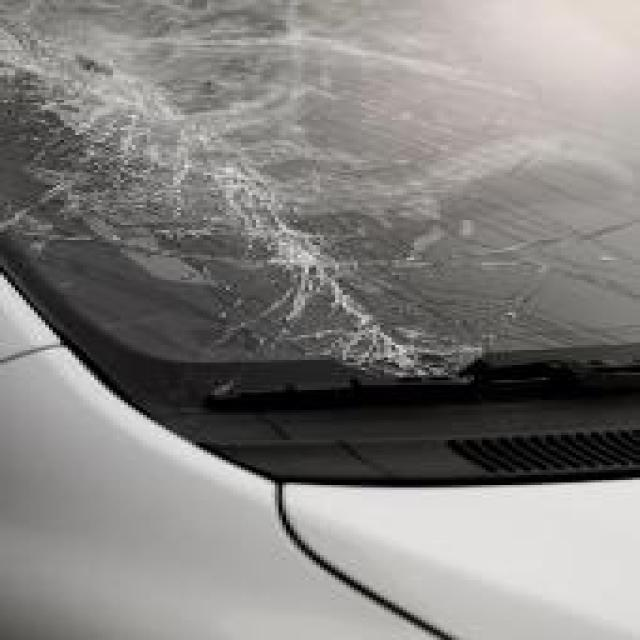Windshield: (0, 0, 640, 475)
